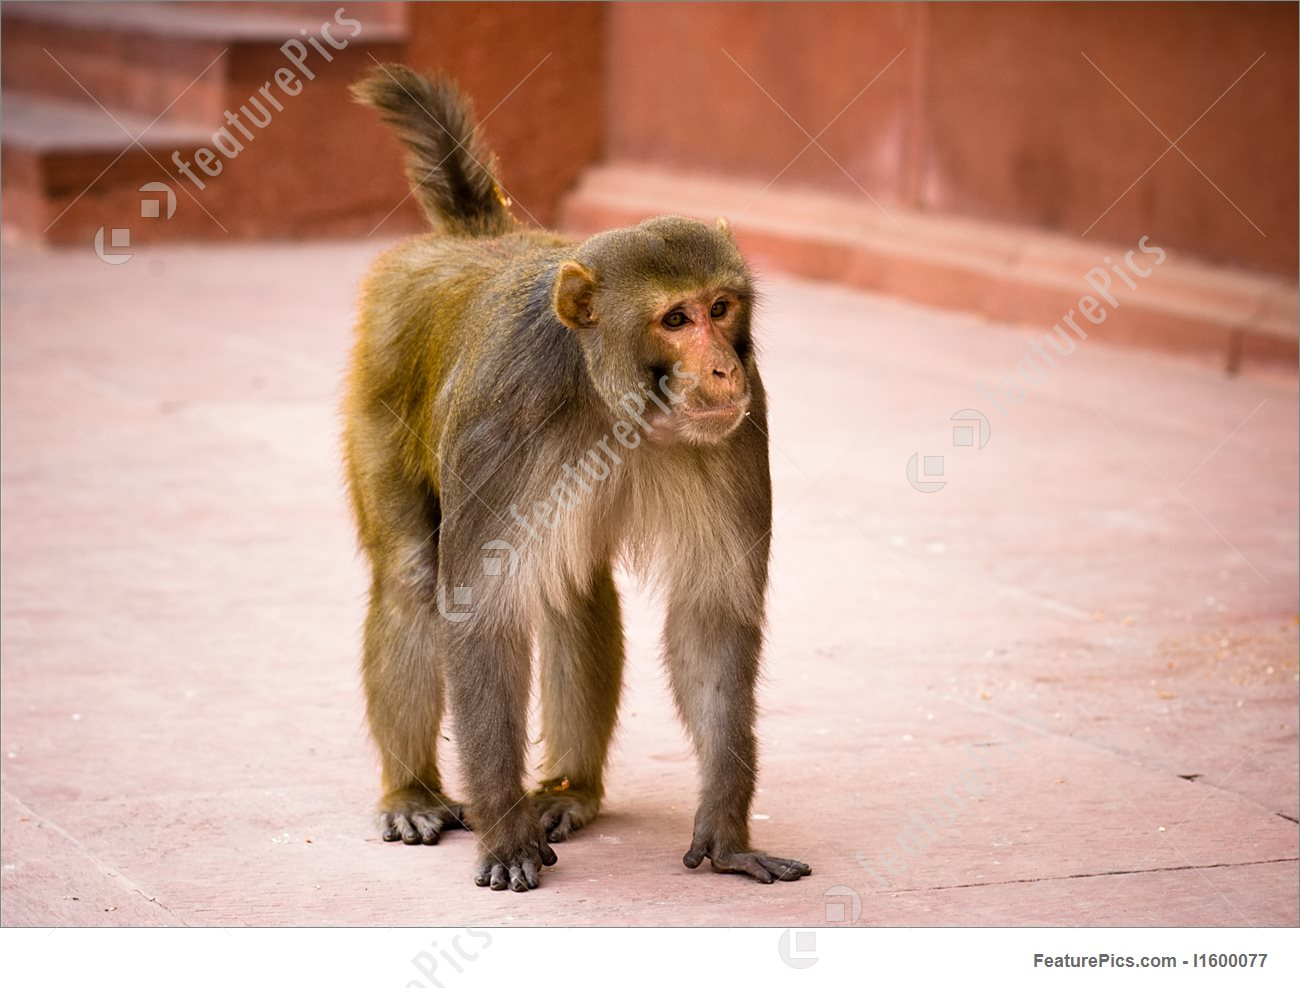monkey: (349, 52, 808, 893)
